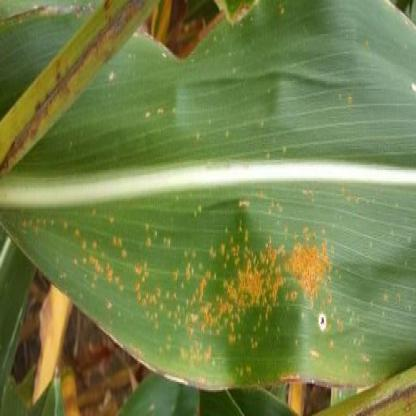Corn rust leaf: (1, 3, 280, 414)
